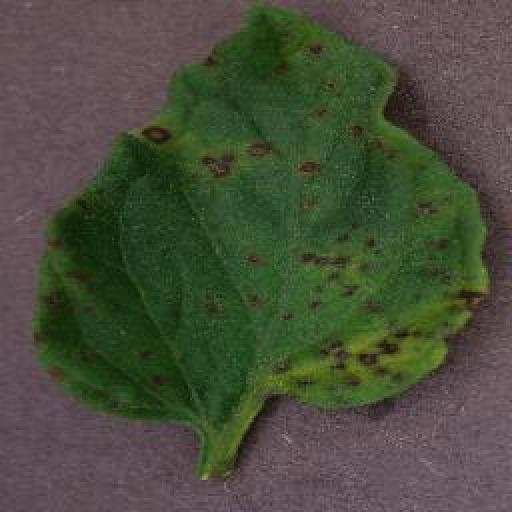disease_tomato: (32, 2, 492, 426)
